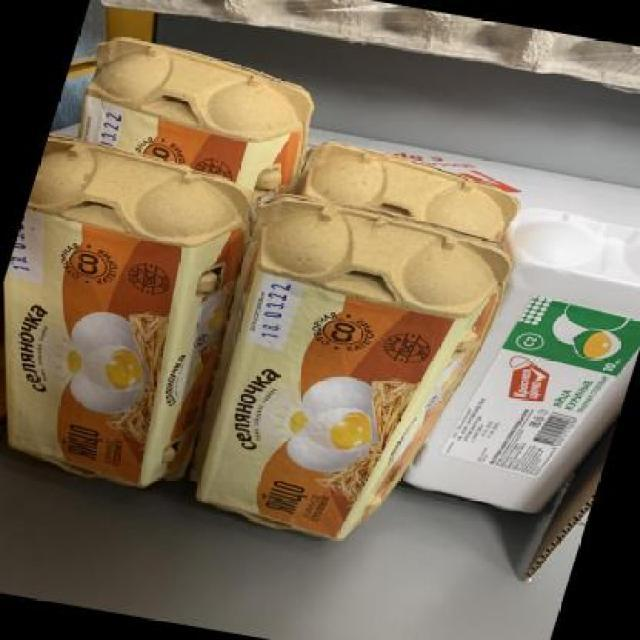Egg: (165, 186, 511, 552), (0, 134, 283, 494), (406, 195, 640, 526), (65, 35, 317, 179), (308, 143, 524, 237)
